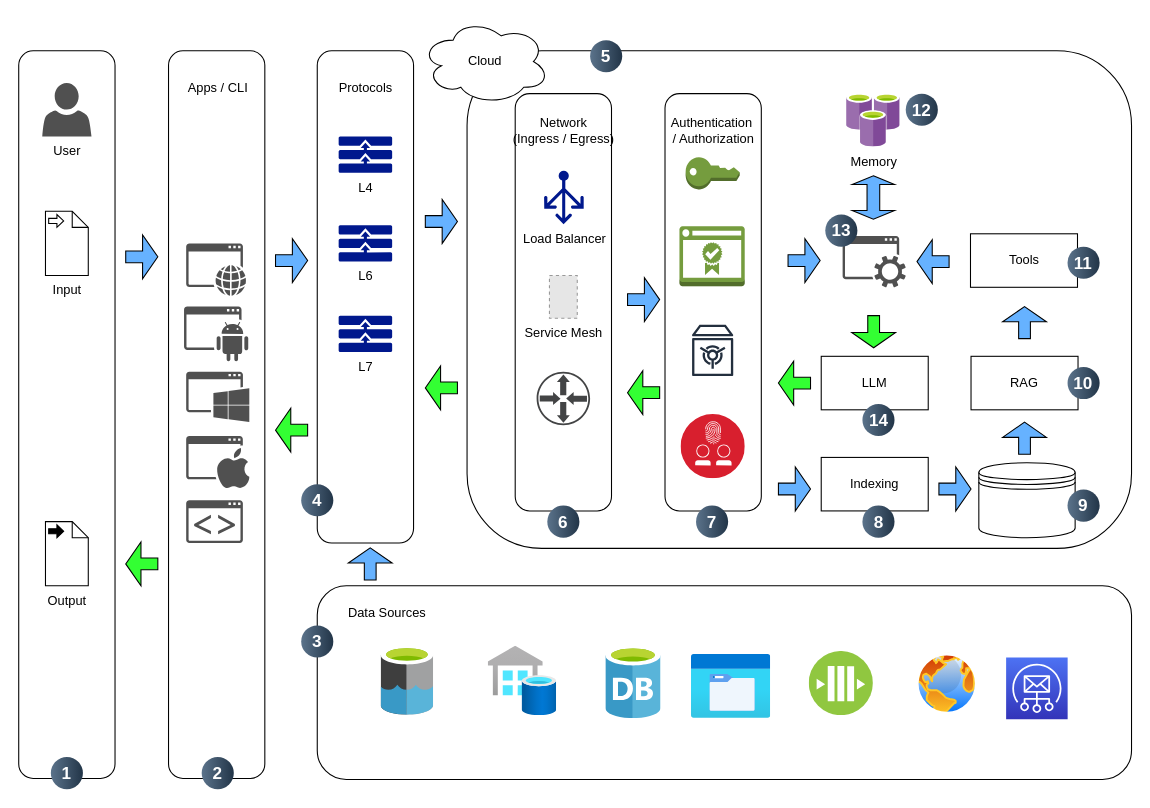
This 1150x808 diagram has some shape labels left out. Grey dashed boxes stand in for pictures. The box of each missing label's shape, as (x1, y1, x2, y2) in pixels:
Agent: (842, 235, 905, 287)
Cert Mgmt: (678, 225, 745, 286)
Data Lake: (381, 646, 433, 715)
Data Store (Vector DB, Graph DB): (978, 462, 1075, 538)
Data Warehouse: (488, 646, 556, 715)
Database: (605, 646, 661, 718)
emails: (1005, 657, 1068, 719)
File Storage: (691, 654, 770, 718)
IAM / ACL: (681, 414, 745, 478)
Internet: (915, 652, 978, 715)
JWT: (685, 156, 740, 189)
Message Bus: (809, 651, 873, 715)
Router: (536, 371, 590, 425)
Vault: (679, 317, 745, 383)
